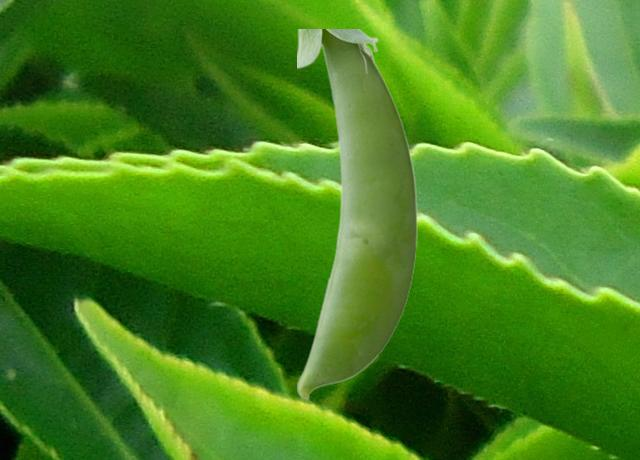pea: (297, 29, 416, 399)
